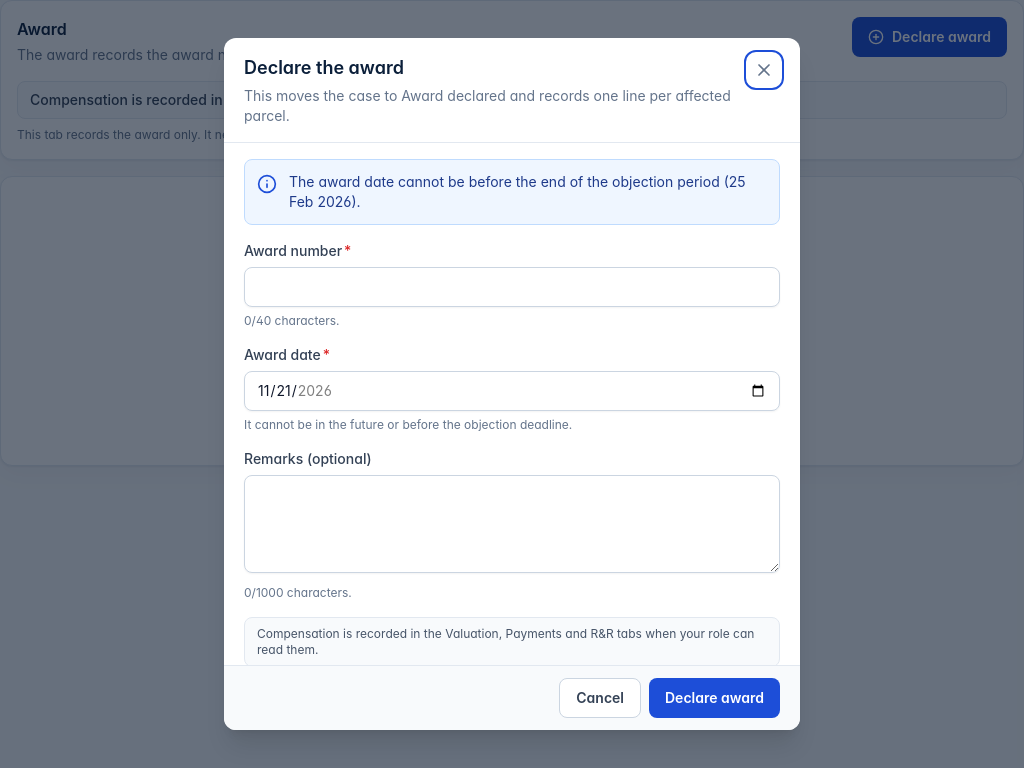
Test: acquisition Award tab › rejects an award date before the objection deadline
Type "AWARD/2026/18" into the field labelled "Award number*".
click(512, 287); type("AWARD/2026/18")  # box [244, 267, 780, 307]
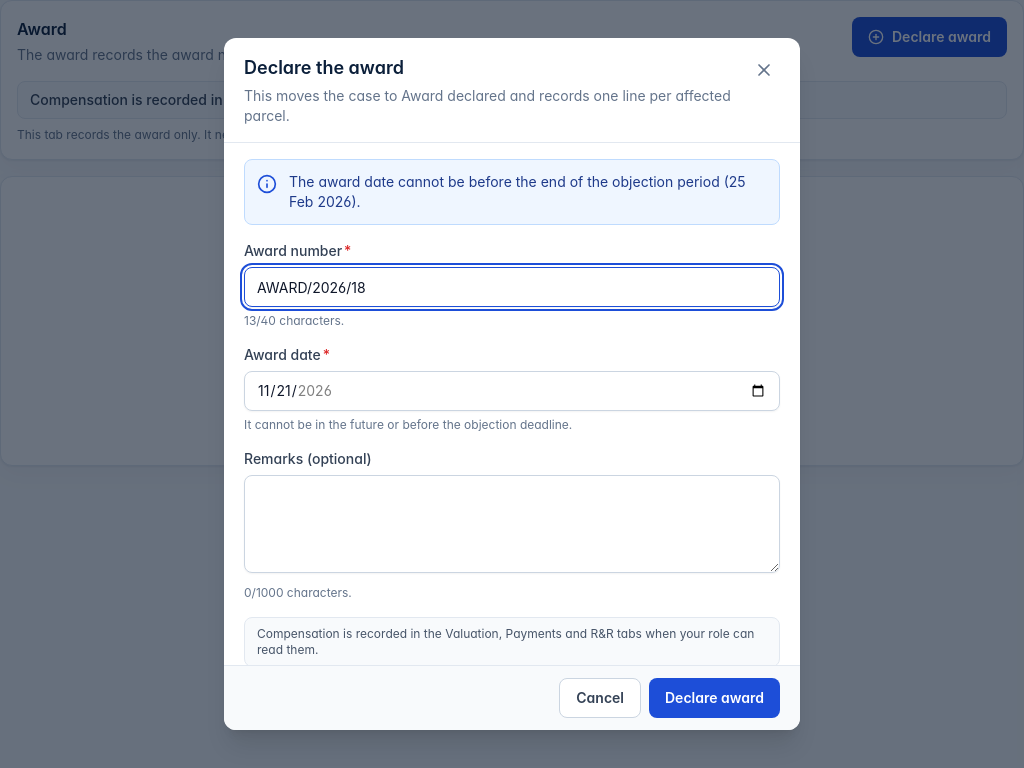
Type "2026-02-20" into the date field labelled "Award date*".
click(512, 391); type("2026-02-20")  # box [244, 371, 780, 411]
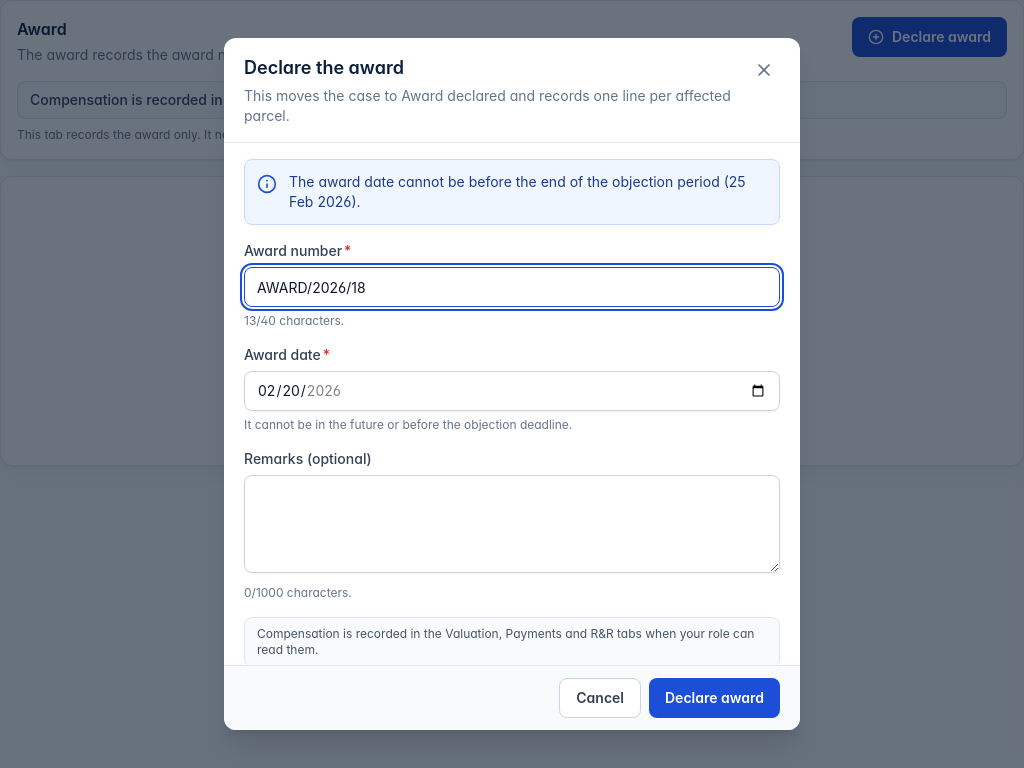
Click the button "Declare award".
click(714, 698)  # box [649, 678, 780, 718]
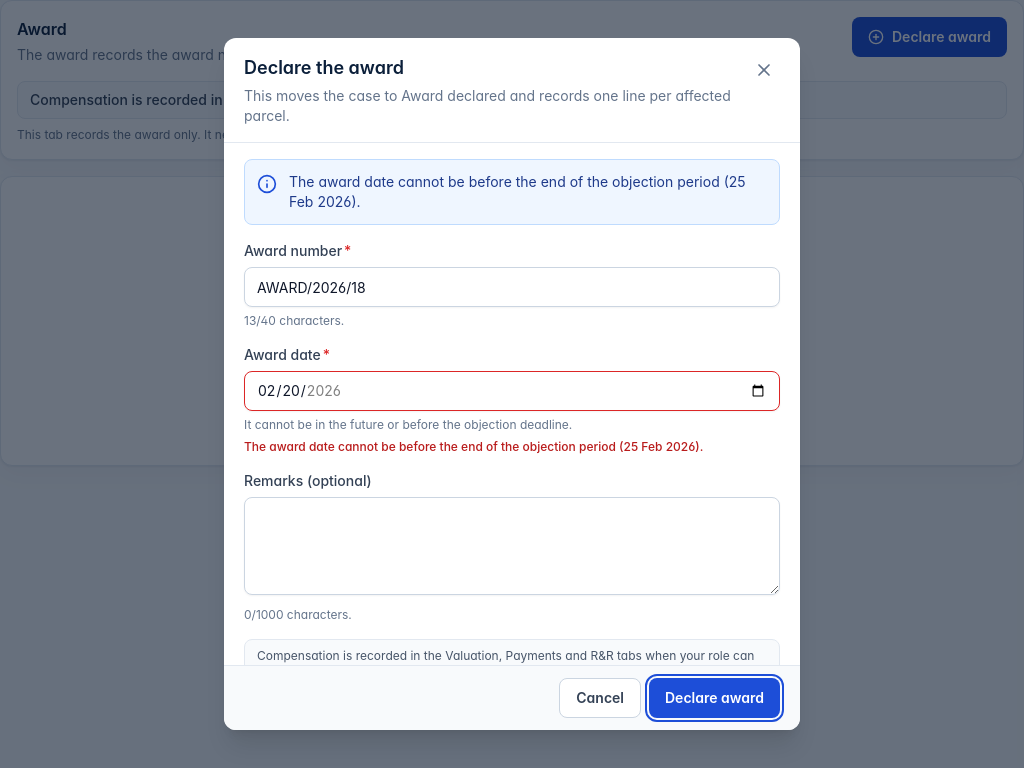
Result: the message "The award date cannot be before the end of the objection period (25 Feb 2026)." below "13/40 characters." is shown at [244, 439, 703, 454]
